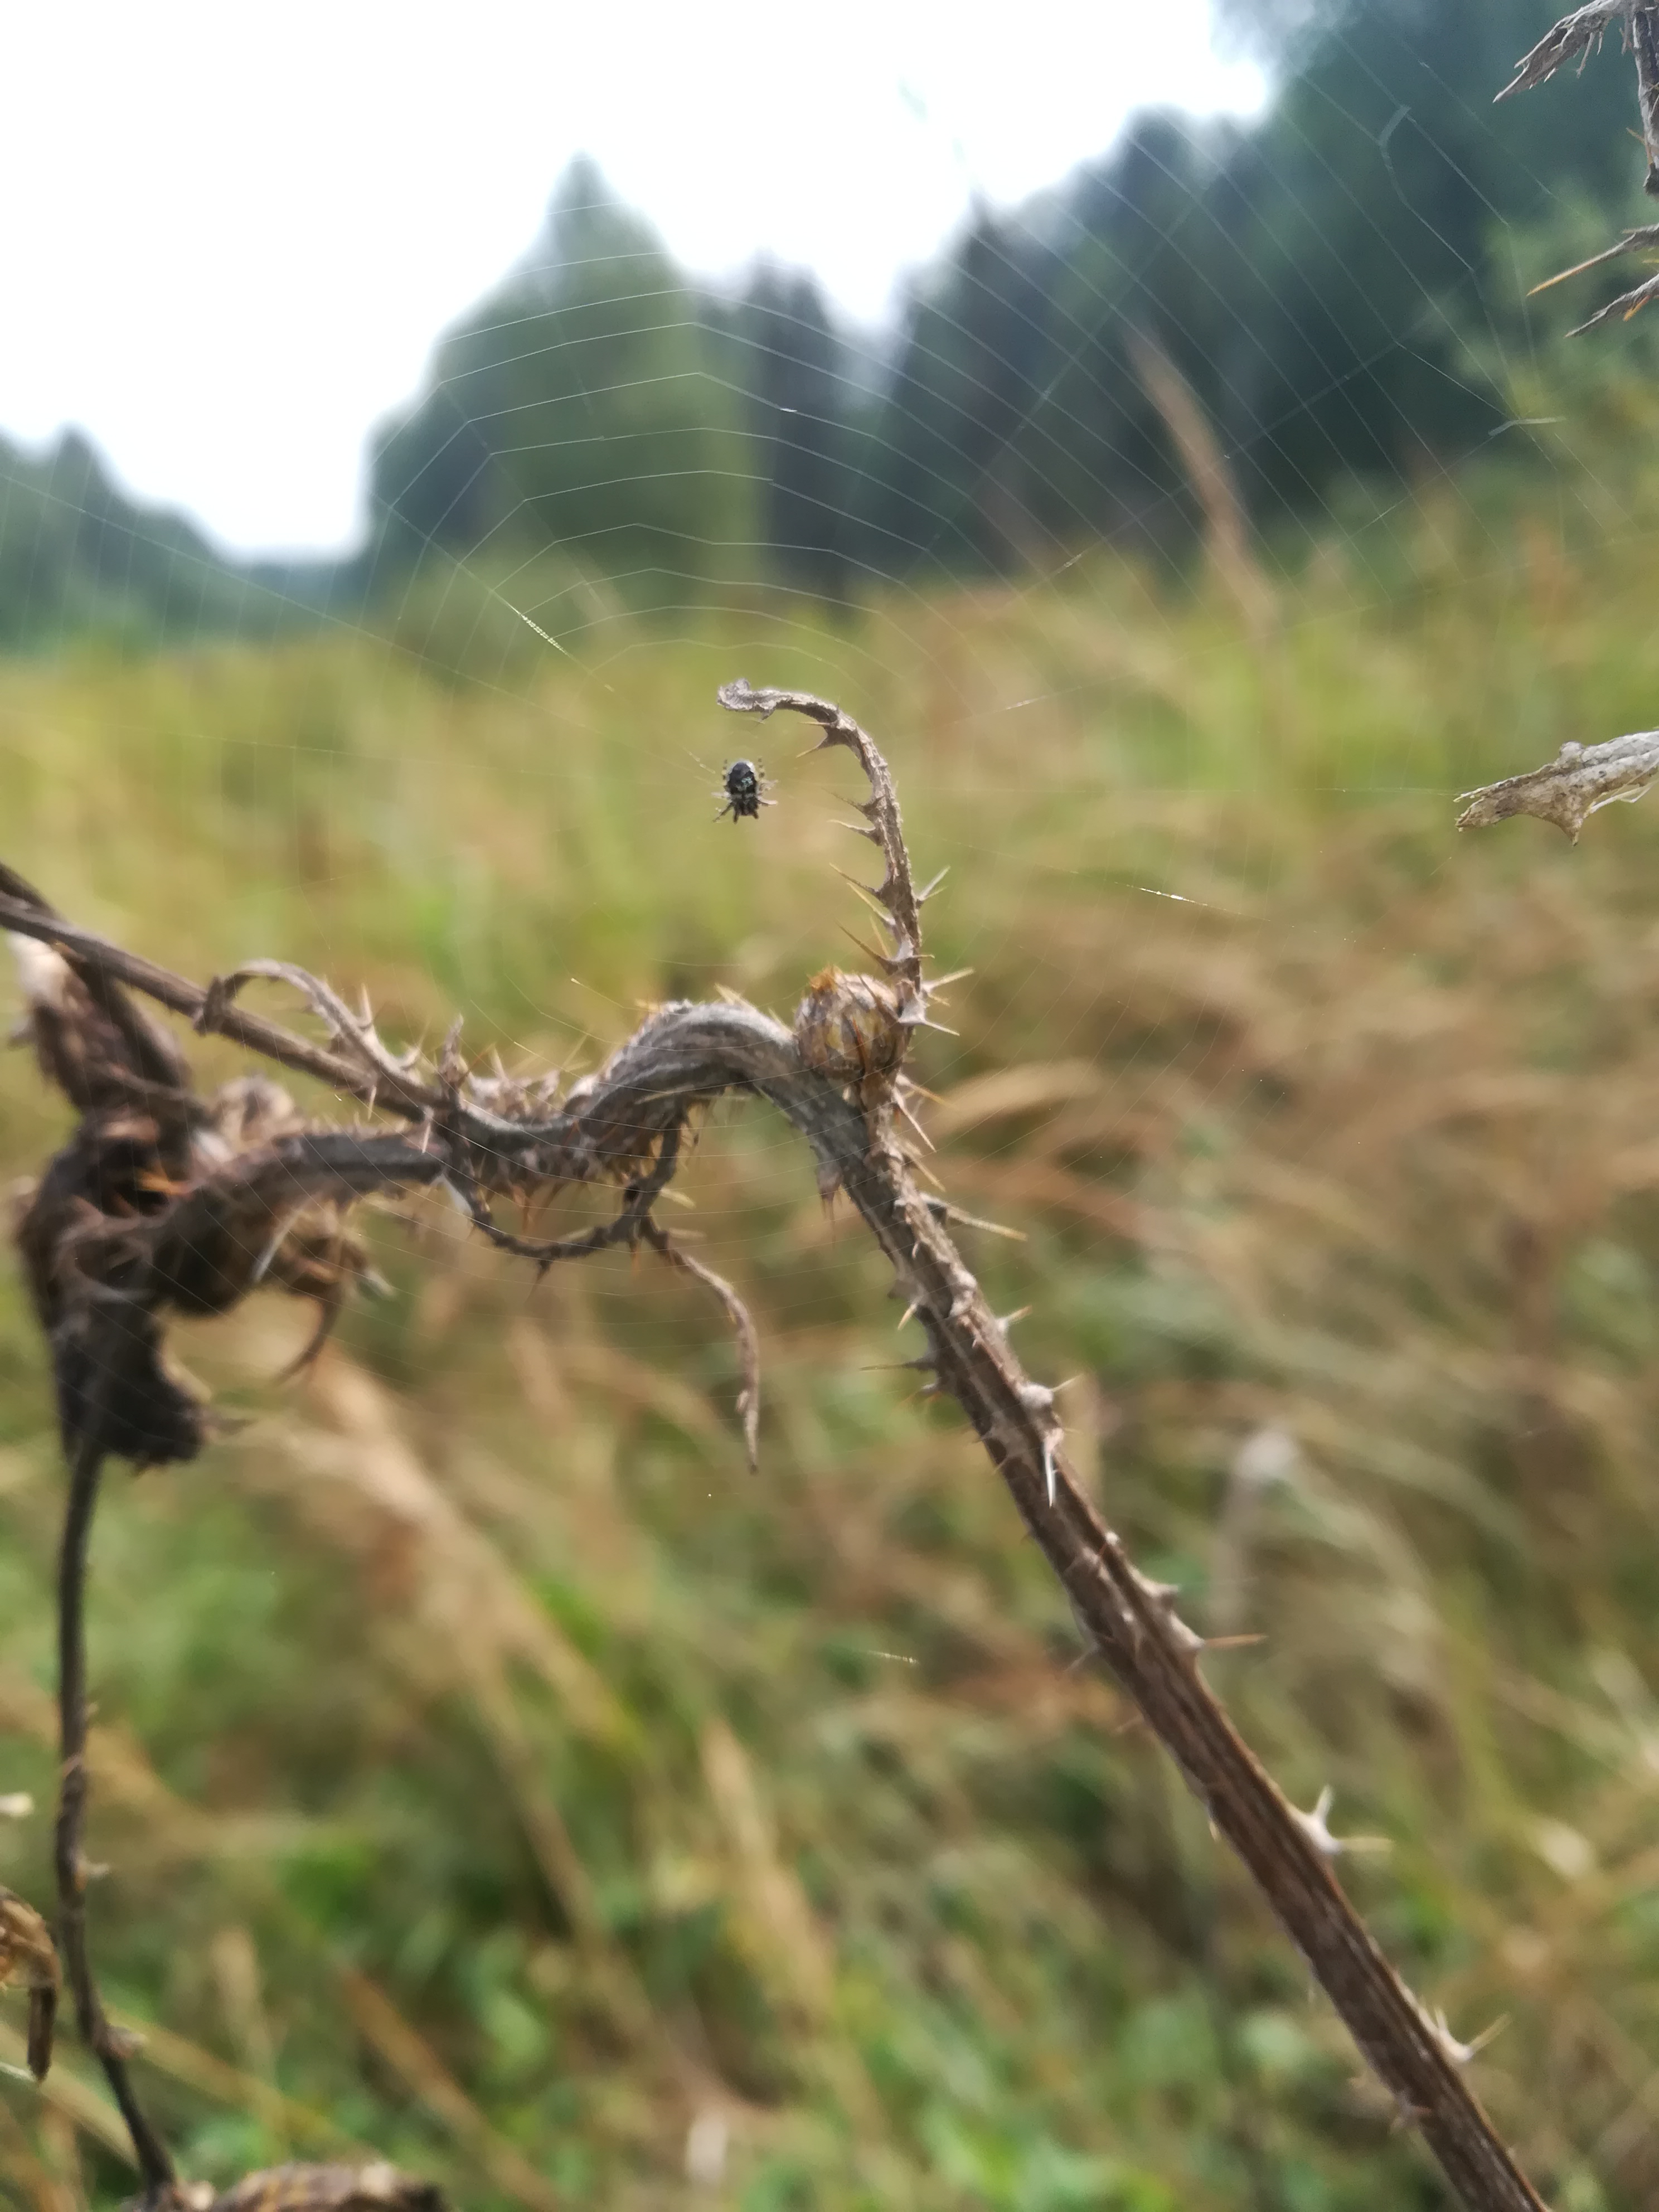spider: (699, 732, 795, 846)
